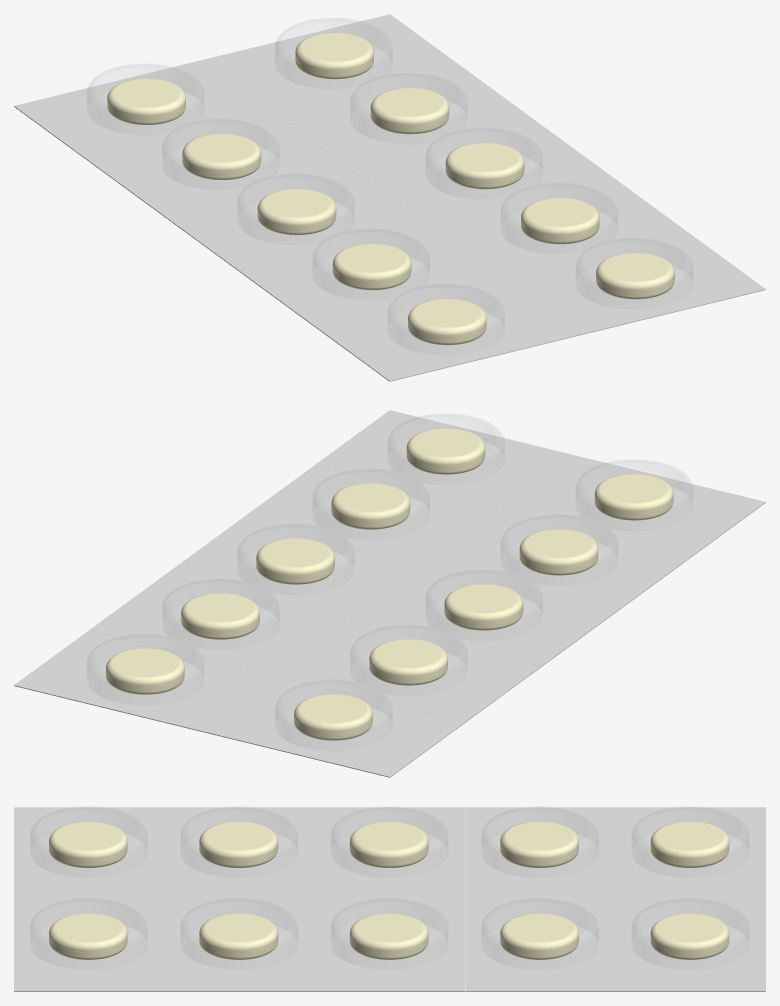
The model's file is Round_Pill_2x5_Beige.glb.
3 views of the same model, one above another, from view 1: azimuth 30°, elevation 25°; view 2: azimuth 150°, elevation 25°; view 3: azimuth 270°, elevation 25° (orthographic).
Visible parts, largest first — view 1: Round_Pill_Base_2x5, Round_Pill_2x5, Round_Pill_Shell_2x5, Round_Pill_Lid_2x5; view 2: Round_Pill_Base_2x5, Round_Pill_2x5, Round_Pill_Lid_2x5, Round_Pill_Shell_2x5; view 3: Round_Pill_Base_2x5, Round_Pill_2x5, Round_Pill_Shell_2x5, Round_Pill_Lid_2x5.
Part boxes in pixels (left/top/right/bottom): Round_Pill_Base_2x5: left=14, top=14, right=765, bottom=381; Round_Pill_2x5: left=107, top=32, right=674, bottom=345; Round_Pill_Shell_2x5: left=87, top=18, right=692, bottom=327; Round_Pill_Lid_2x5: left=86, top=45, right=693, bottom=355; Round_Pill_Base_2x5: left=14, top=410, right=765, bottom=777; Round_Pill_2x5: left=106, top=428, right=673, bottom=740; Round_Pill_Lid_2x5: left=86, top=441, right=693, bottom=751; Round_Pill_Shell_2x5: left=87, top=414, right=692, bottom=723; Round_Pill_Base_2x5: left=14, top=807, right=765, bottom=991; Round_Pill_2x5: left=49, top=821, right=729, bottom=959; Round_Pill_Shell_2x5: left=30, top=806, right=748, bottom=941; Round_Pill_Lid_2x5: left=30, top=833, right=749, bottom=969.
Size of the model in its own units: 6.8 by 0.4541 by 11.77.
